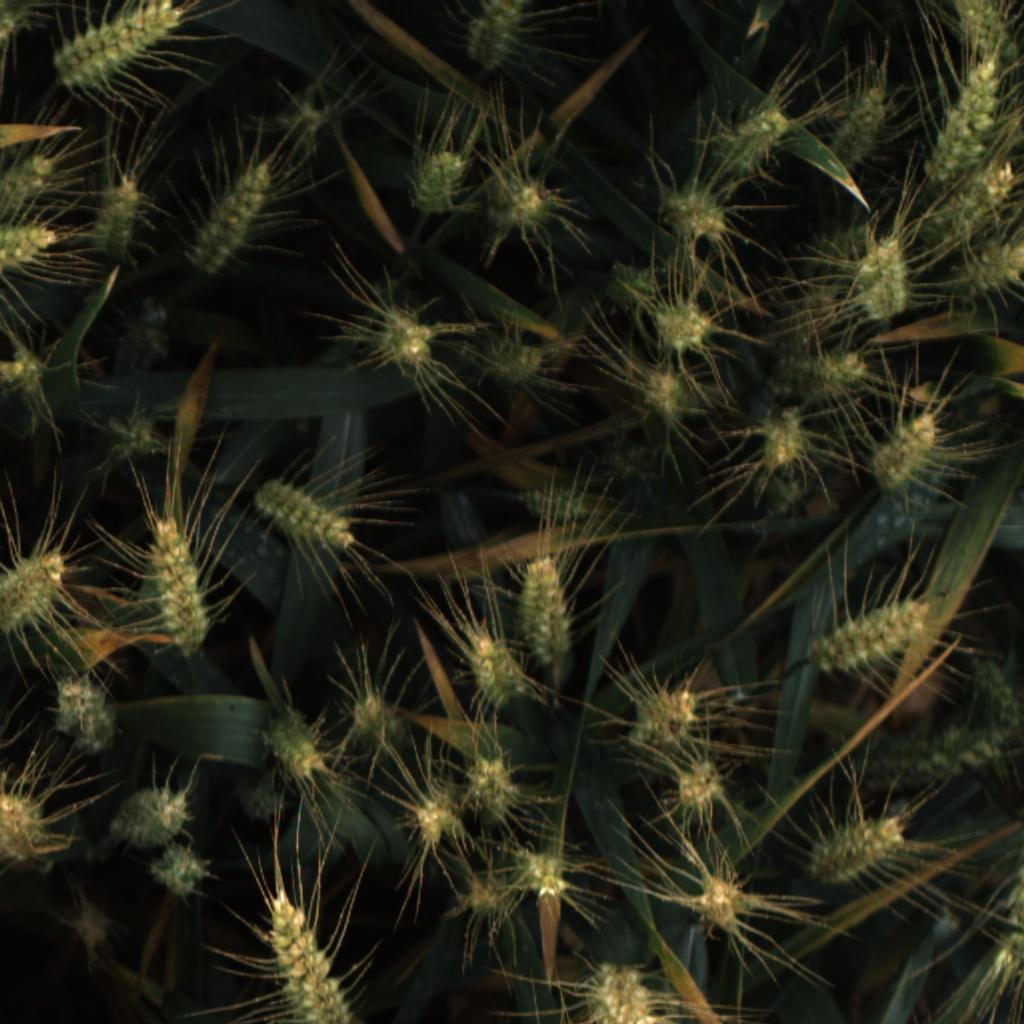0-0: (49, 3, 186, 97), (262, 888, 352, 1024), (138, 510, 215, 655), (807, 594, 935, 680), (188, 154, 274, 273), (925, 50, 1007, 174), (803, 809, 909, 888), (871, 725, 1008, 786), (252, 478, 355, 555), (514, 548, 575, 671), (46, 668, 124, 760), (108, 777, 193, 852), (455, 618, 524, 710), (0, 545, 67, 637), (866, 410, 945, 488), (627, 677, 707, 754), (850, 233, 915, 325), (84, 171, 151, 260), (938, 162, 1015, 238), (942, 0, 1015, 80), (714, 106, 791, 177), (458, 2, 533, 72), (96, 296, 176, 361), (349, 686, 415, 763), (583, 959, 661, 1024), (990, 849, 1024, 998), (261, 711, 336, 778), (775, 344, 873, 394), (658, 179, 728, 247), (272, 79, 339, 150), (367, 306, 438, 372), (463, 750, 521, 830), (685, 867, 753, 935), (646, 292, 720, 354), (407, 145, 469, 219), (0, 788, 58, 865), (835, 85, 891, 164), (146, 837, 213, 901), (0, 220, 62, 288), (967, 651, 1019, 731), (484, 173, 548, 238), (510, 840, 574, 904), (599, 254, 671, 310), (0, 149, 57, 217), (405, 789, 469, 849), (669, 755, 733, 814), (100, 410, 167, 466), (964, 230, 1024, 292), (480, 335, 545, 391), (516, 479, 590, 528), (757, 405, 806, 476), (459, 871, 512, 936), (230, 771, 291, 827), (638, 367, 695, 423), (64, 900, 118, 959), (761, 472, 814, 524), (0, 345, 49, 401)
